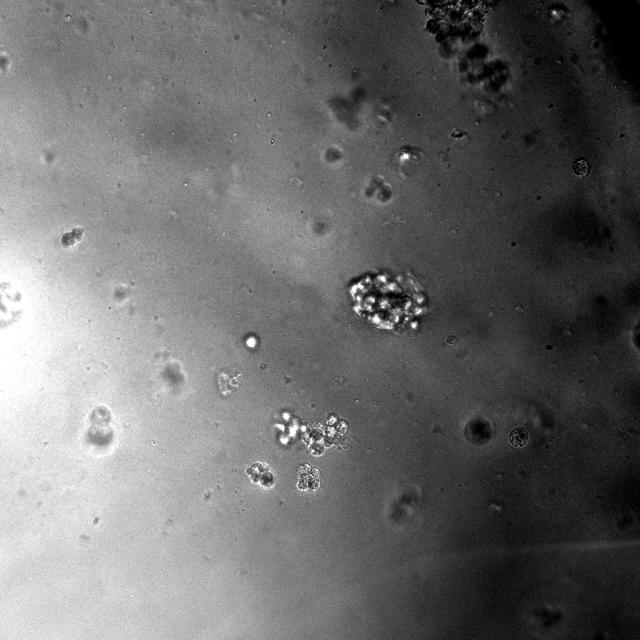organoid: (418, 0, 511, 96), (348, 270, 428, 331), (274, 410, 350, 456), (81, 405, 116, 454), (245, 461, 275, 489), (363, 176, 392, 204), (465, 416, 492, 445), (296, 463, 321, 490), (61, 226, 84, 248), (509, 427, 528, 447), (572, 158, 590, 178)
